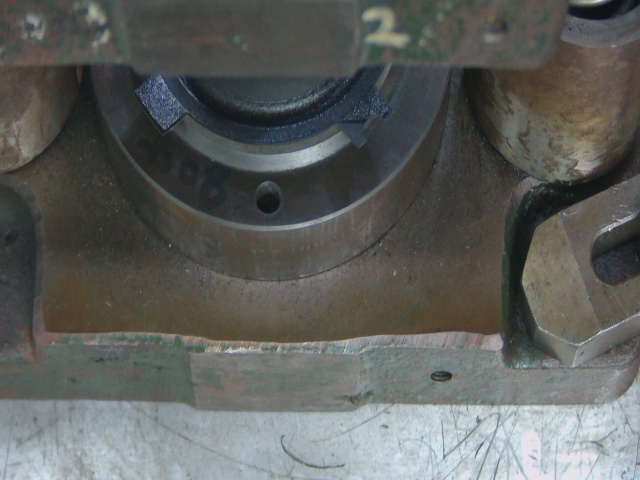OK: (338, 86, 402, 157)
